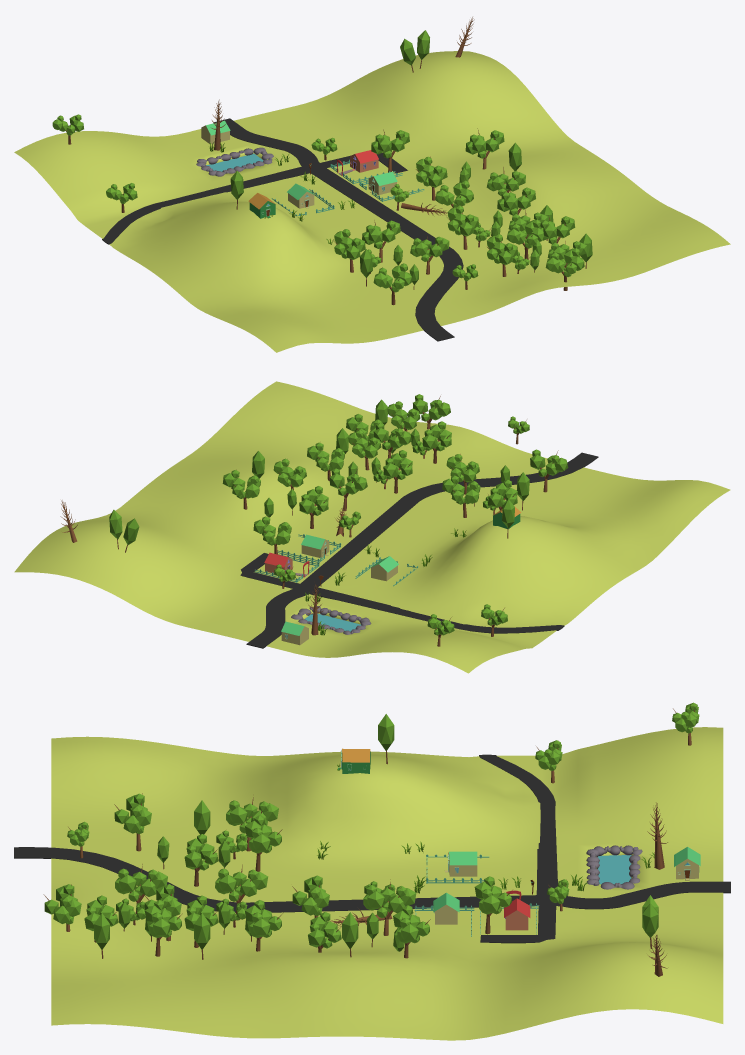
Rendered from Land.glb.
3 renders of one model, top to bottom at view 1: azimuth 30°, elevation 25°; view 2: azimuth 150°, elevation 25°; view 3: azimuth 270°, elevation 25°, orthographic. The views are drawn at different scales.
Parts seen in each view (by area): view 1: Landscape_Plane_Landscape, Road_Cube_001_Road, Rock_Cube_006_Rock, Tree_Leaf_018_Icosphere_029_Leaf, Tree_Leaf_008_Icosphere_013_Leaf, Tree_Leaf_021_Icosphere_034_Leaf, Tree_Leaf_011_Icosphere_018_Leaf, Tree_Leaf_012_Icosphere_019_Leaf, Tree_Leaf_022_Icosphere_035_Leaf, Tree_Leaf_007_Icosphere_012_Leaf, Tree_Leaf_Icosphere_Leaf, Tree_Leaf_024_Icosphere_039_Leaf (+6 smaller); view 2: Landscape_Plane_Landscape, Road_Cube_001_Road, Rock_Cube_006_Rock, Tree_Leaf_004_Icosphere_007_Leaf, Tree_Leaf_Icosphere_Leaf, Tree_Leaf_024_Icosphere_039_Leaf, Tree_Leaf_014_Icosphere_023_Leaf, Tree_Leaf_008_Icosphere_013_Leaf, Tree_Leaf_021_Icosphere_034_Leaf, Tree_Leaf_017_Icosphere_028_Leaf, Tree_Leaf_022_Icosphere_035_Leaf, Tree_Leaf_012_Icosphere_019_Leaf (+7 smaller); view 3: Landscape_Plane_Landscape, Road_Cube_001_Road, Rock_Cube_006_Rock, Tree_Leaf_012_Icosphere_019_Leaf, Tree_Leaf_022_Icosphere_035_Leaf, Tree_Leaf_017_Icosphere_028_Leaf, Tree_Leaf_007_Icosphere_012_Leaf, Tree_Leaf_018_Icosphere_029_Leaf, Tree_Leaf_021_Icosphere_034_Leaf, Tree_Leaf_008_Icosphere_013_Leaf, Tree_Leaf_004_Icosphere_007_Leaf, Tree_Leaf_Icosphere_Leaf (+12 smaller).
Boxes of the visible parts, x1,y1,x2,y2 form: Landscape_Plane_Landscape: (14, 51, 730, 352); Road_Cube_001_Road: (102, 118, 463, 341); Rock_Cube_006_Rock: (196, 147, 273, 176); Tree_Leaf_018_Icosphere_029_Leaf: (545, 248, 584, 276); Tree_Leaf_008_Icosphere_013_Leaf: (373, 263, 412, 292); Tree_Leaf_021_Icosphere_034_Leaf: (435, 180, 473, 207); Tree_Leaf_011_Icosphere_018_Leaf: (506, 219, 544, 248); Tree_Leaf_012_Icosphere_019_Leaf: (447, 205, 479, 236); Tree_Leaf_022_Icosphere_035_Leaf: (416, 156, 447, 187); Tree_Leaf_007_Icosphere_012_Leaf: (334, 229, 365, 259); Tree_Leaf_Icosphere_Leaf: (371, 130, 409, 158); Tree_Leaf_024_Icosphere_039_Leaf: (465, 130, 504, 158); Landscape_Plane_Landscape: (14, 381, 730, 673); Road_Cube_001_Road: (240, 452, 598, 648); Rock_Cube_006_Rock: (291, 606, 371, 634); Tree_Leaf_004_Icosphere_007_Leaf: (442, 475, 480, 504); Tree_Leaf_Icosphere_Leaf: (253, 516, 291, 545); Tree_Leaf_024_Icosphere_039_Leaf: (222, 470, 260, 498); Tree_Leaf_014_Icosphere_023_Leaf: (307, 442, 344, 471); Tree_Leaf_008_Icosphere_013_Leaf: (530, 449, 568, 476); Tree_Leaf_021_Icosphere_034_Leaf: (329, 468, 367, 495); Tree_Leaf_017_Icosphere_028_Leaf: (422, 421, 451, 451); Tree_Leaf_022_Icosphere_035_Leaf: (299, 486, 328, 515); Tree_Leaf_012_Icosphere_019_Leaf: (383, 450, 412, 479); Landscape_Plane_Landscape: (51, 727, 723, 1040); Road_Cube_001_Road: (14, 754, 730, 943); Rock_Cube_006_Rock: (586, 845, 642, 889); Tree_Leaf_012_Icosphere_019_Leaf: (215, 868, 268, 901); Tree_Leaf_022_Icosphere_035_Leaf: (363, 885, 416, 918); Tree_Leaf_017_Icosphere_028_Leaf: (115, 868, 167, 901); Tree_Leaf_007_Icosphere_012_Leaf: (226, 800, 278, 833); Tree_Leaf_018_Icosphere_029_Leaf: (44, 884, 81, 924); Tree_Leaf_021_Icosphere_034_Leaf: (292, 875, 329, 915); Tree_Leaf_008_Icosphere_013_Leaf: (114, 793, 151, 834); Tree_Leaf_004_Icosphere_007_Leaf: (245, 815, 281, 853); Tree_Leaf_Icosphere_Leaf: (474, 876, 511, 914).
Size of the model in its own units: 70.18 by 12.52 by 74.69.
